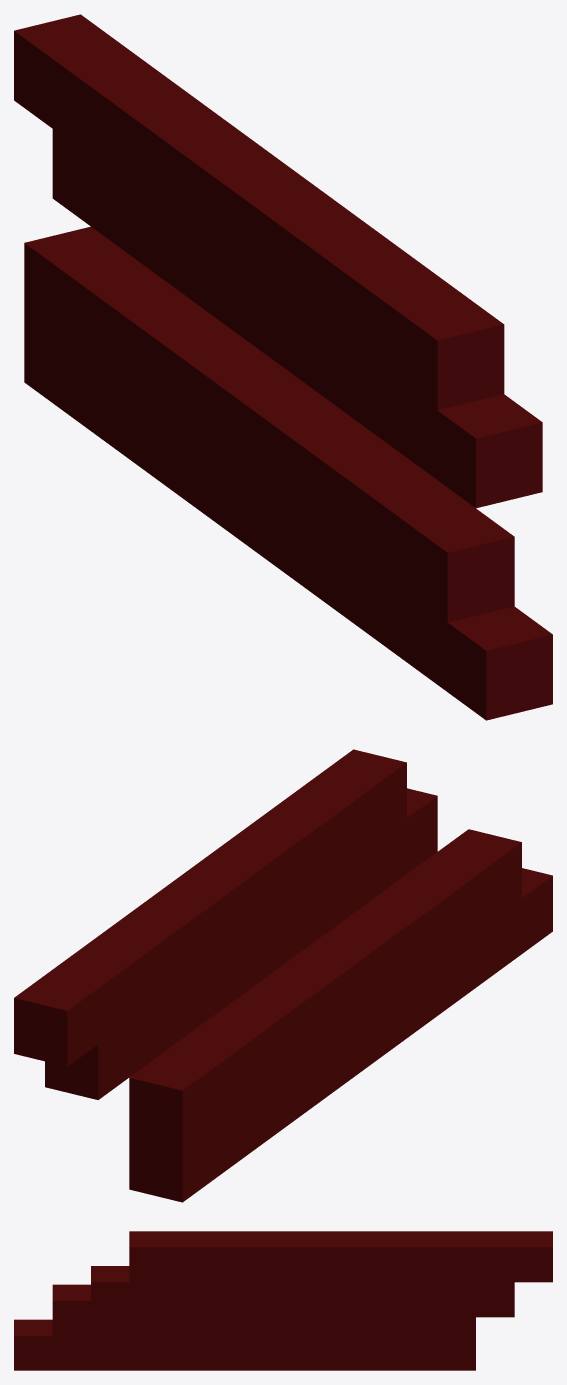
Rendered from Extra-3-RedFighter_WingTip_L.obj.
The picture shows the model from 3 angles, top to bottom: view 1: azimuth 30°, elevation 25°; view 2: azimuth 150°, elevation 25°; view 3: azimuth 270°, elevation 25°; orthographic projection. The views are drawn at different scales.
Visible parts, largest first — view 1: RedFighter_WingTip_L; view 2: RedFighter_WingTip_L; view 3: RedFighter_WingTip_L.
Boxes of the visible parts, left/top/right/bottom form: RedFighter_WingTip_L: left=14, top=14, right=552, bottom=720; RedFighter_WingTip_L: left=14, top=749, right=552, bottom=1202; RedFighter_WingTip_L: left=14, top=1231, right=552, bottom=1370.
Size of the model in its own units: 0.2 by 0.4 by 1.4.
Materials: 1 (1 with a texture image).
